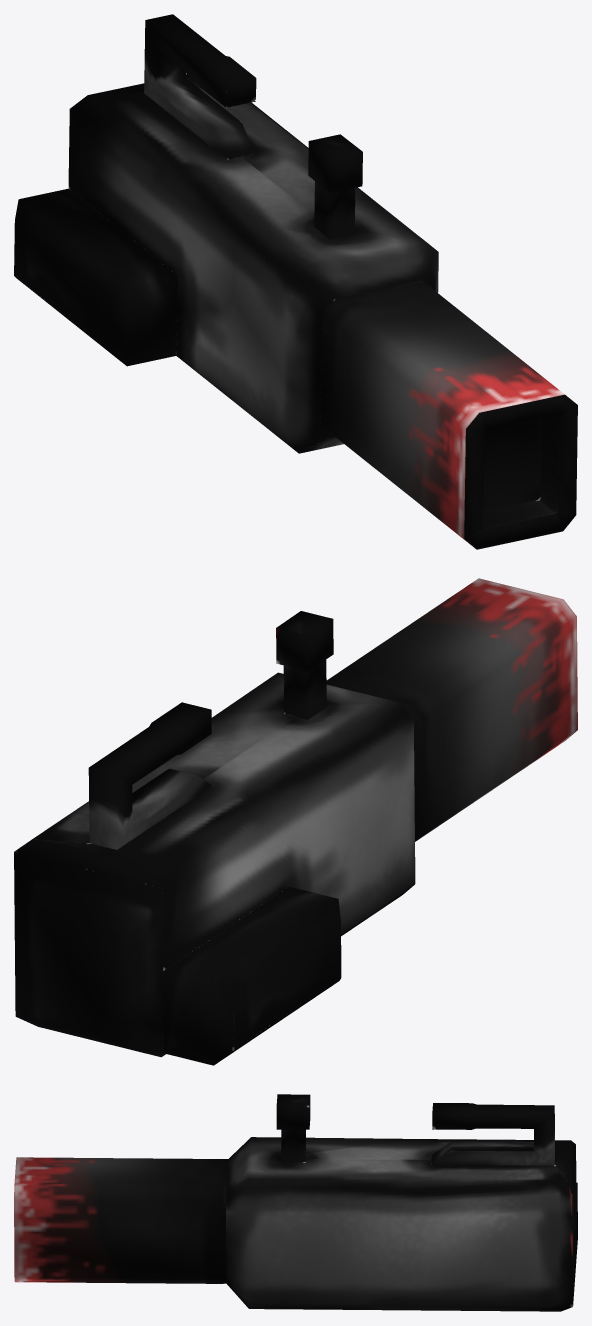
File: PlayerGun.fbx
3 views of the same model, one above another, from view 1: azimuth 30°, elevation 25°; view 2: azimuth 150°, elevation 25°; view 3: azimuth 270°, elevation 25° (orthographic). The views are drawn at different scales.
Parts seen in each view (by area): view 1: Gun; view 2: Gun; view 3: Gun.
Part boxes in pixels (x1=…): Gun: x1=14, y1=14, x2=577, y2=549; Gun: x1=14, y1=578, x2=577, y2=1065; Gun: x1=14, y1=1094, x2=577, y2=1311.
Size of the model in its own units: 59.5 by 71.71 by 193.
Materials: 1 (1 with a texture image).
